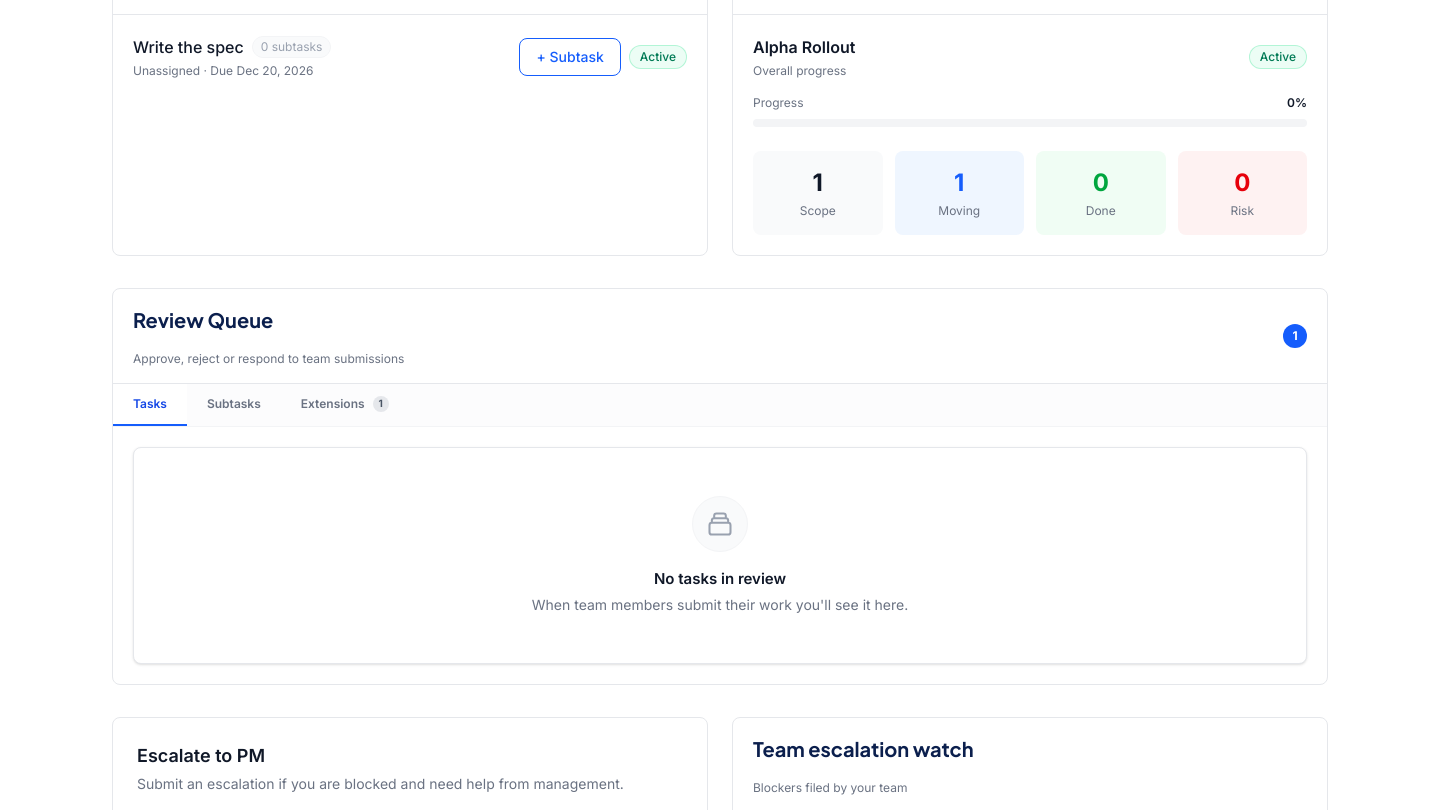
it: TL Dashboard › rejecting an extension needs a reason and stores it on the escalation
(page scrolled)
Click the button "Extensions 1" at (345, 405), box left=281, top=384, right=409, bottom=426
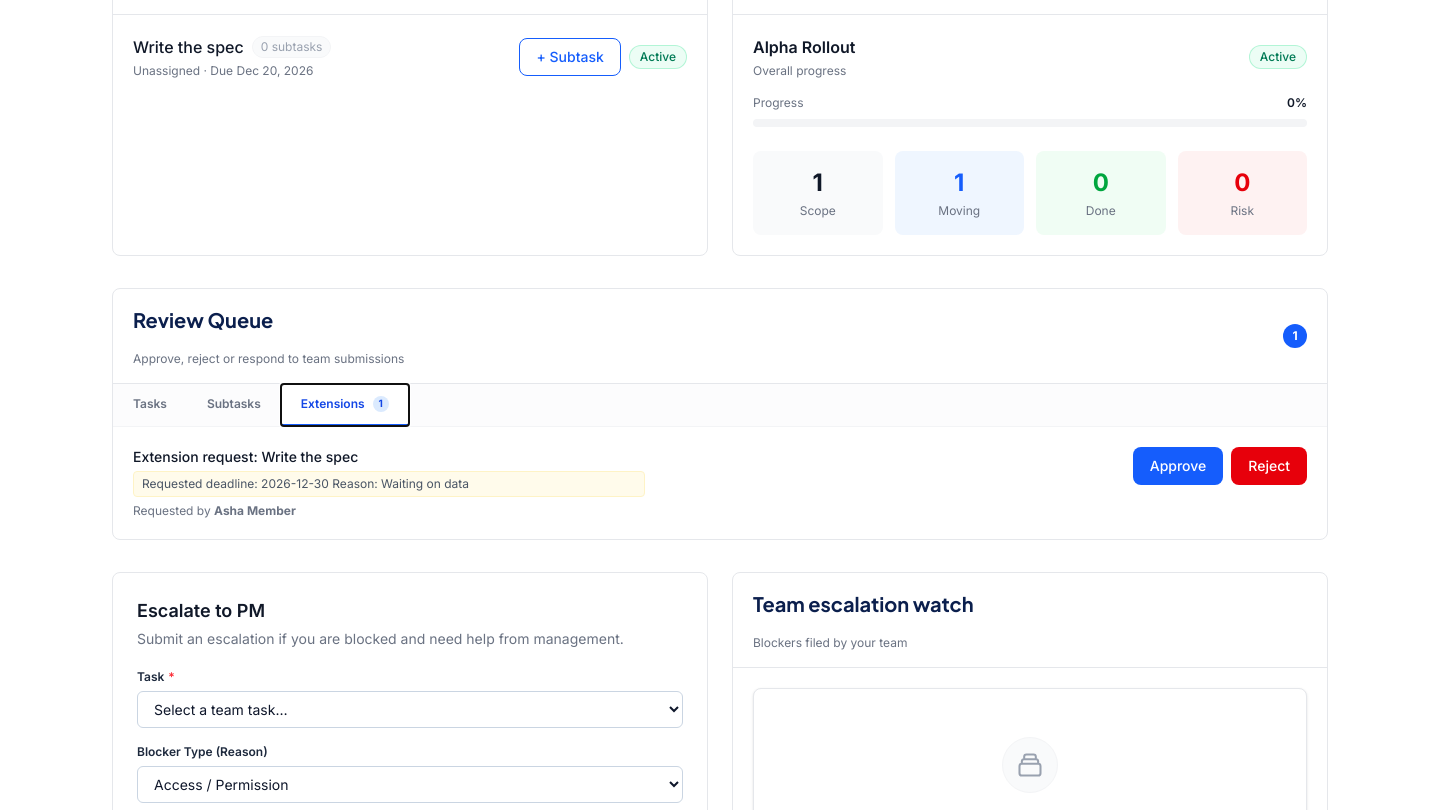
Click the button "Reject" at (1269, 466), box left=1231, top=447, right=1307, bottom=485
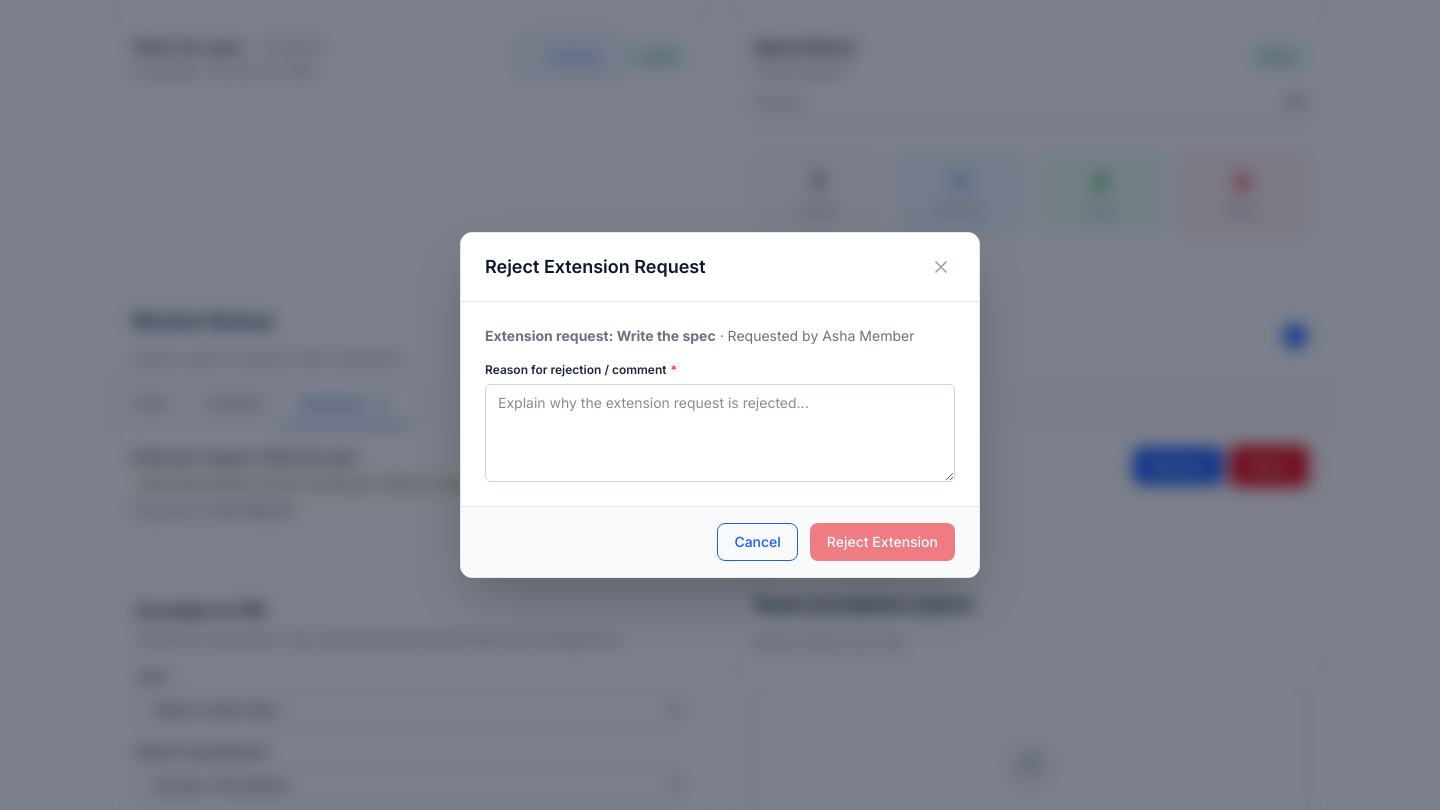
Expected: the button "Reject Extension" is disabled, left=810, top=523, right=955, bottom=561
Type "Scope is fixed" into the text box with placeholder "Explain why the extension request is rejected..." at (720, 433), box left=485, top=384, right=955, bottom=482
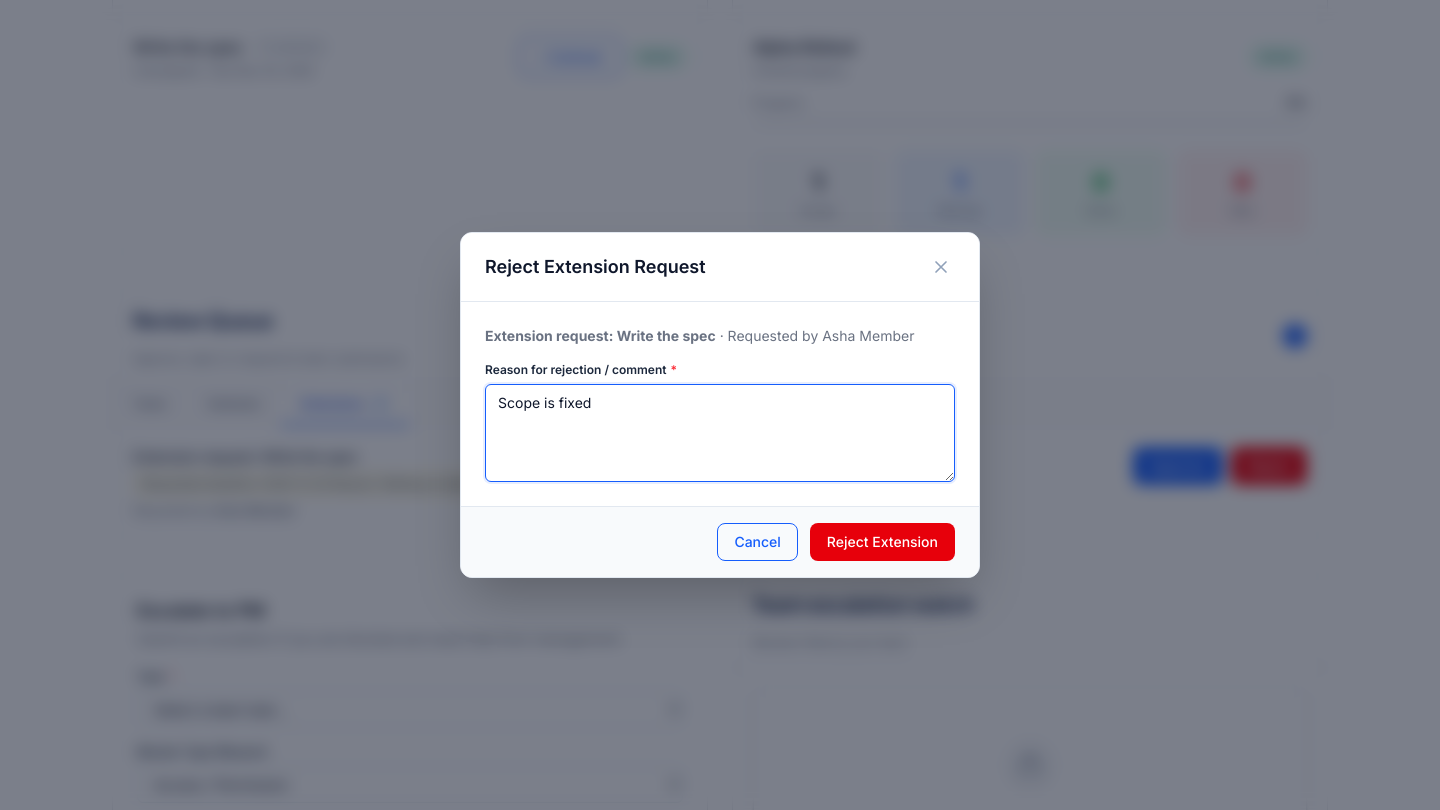
Click the button "Reject Extension" at (882, 542), box left=810, top=523, right=955, bottom=561
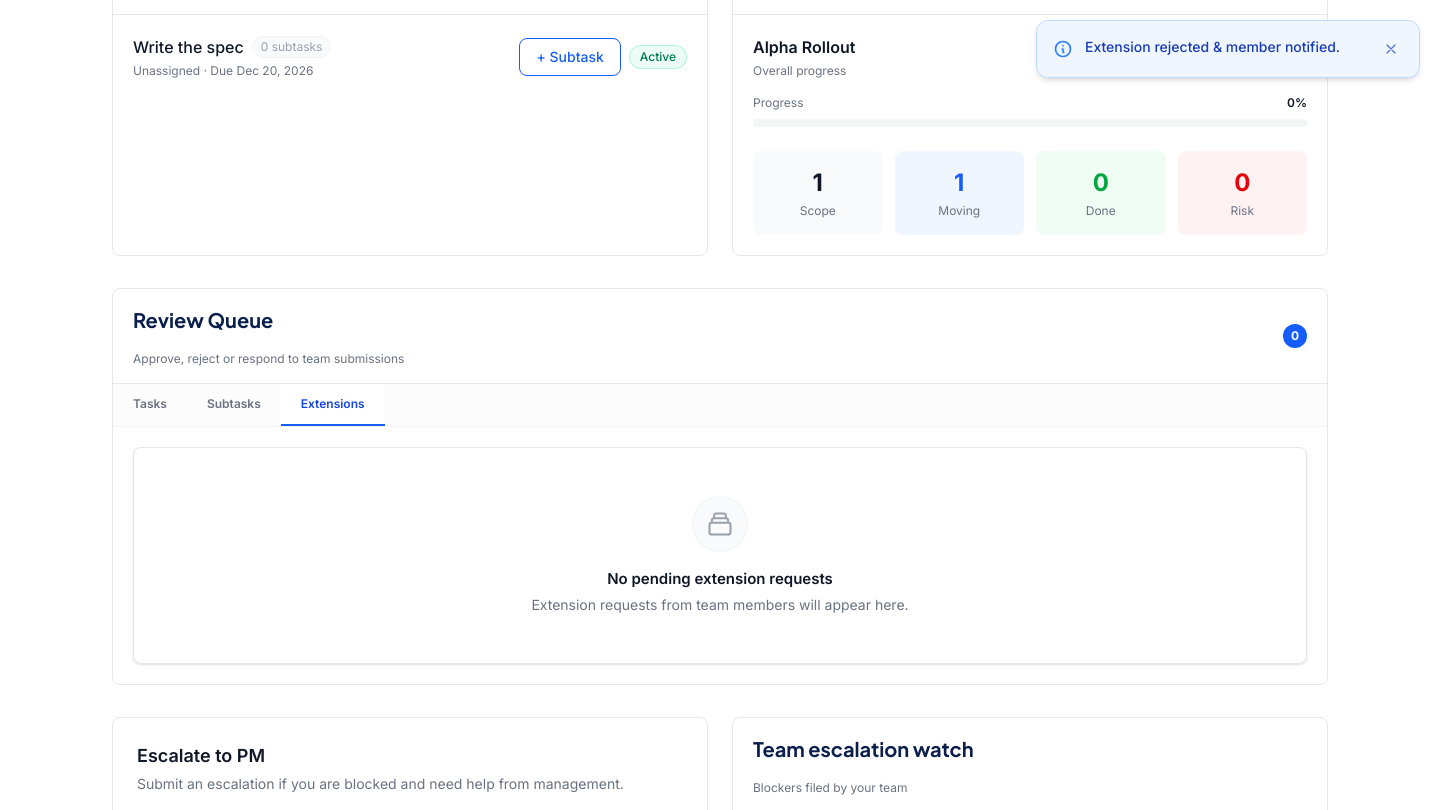
Expected: the text "Extension request: Write the spec" is gone
